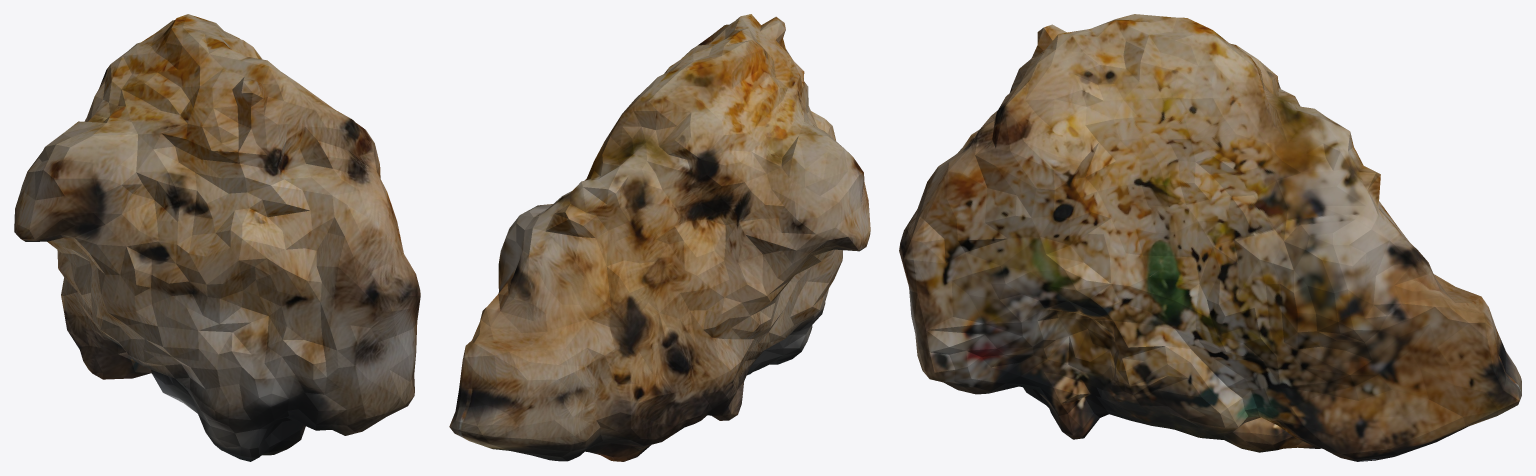
Rendered from illite_alteration_001.glb.
3 renders of one model, left to right at view 1: azimuth 30°, elevation 25°; view 2: azimuth 150°, elevation 25°; view 3: azimuth 270°, elevation 25°, orthographic. The views are drawn at different scales.
Parts seen in each view (by area): view 1: tripo_node_c75f7c62-60bc-4e2c-a0f4-0f28adf3bfef; view 2: tripo_node_c75f7c62-60bc-4e2c-a0f4-0f28adf3bfef; view 3: tripo_node_c75f7c62-60bc-4e2c-a0f4-0f28adf3bfef.
Boxes of the visible parts, left/top/right/bottom form: tripo_node_c75f7c62-60bc-4e2c-a0f4-0f28adf3bfef: left=14, top=14, right=420, bottom=461; tripo_node_c75f7c62-60bc-4e2c-a0f4-0f28adf3bfef: left=449, top=14, right=870, bottom=461; tripo_node_c75f7c62-60bc-4e2c-a0f4-0f28adf3bfef: left=899, top=14, right=1521, bottom=461.
Bounding box in the file's own units: 0.5558 × 0.671 × 0.9288.
Materials: 1 (1 with a texture image).
